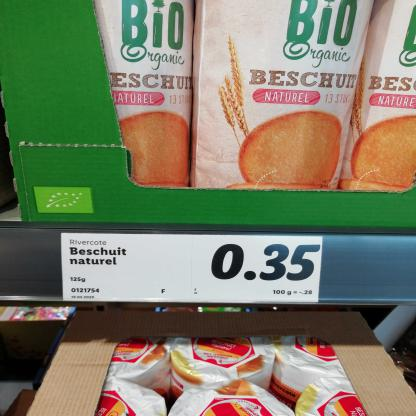prtg: (62, 234, 324, 304)
